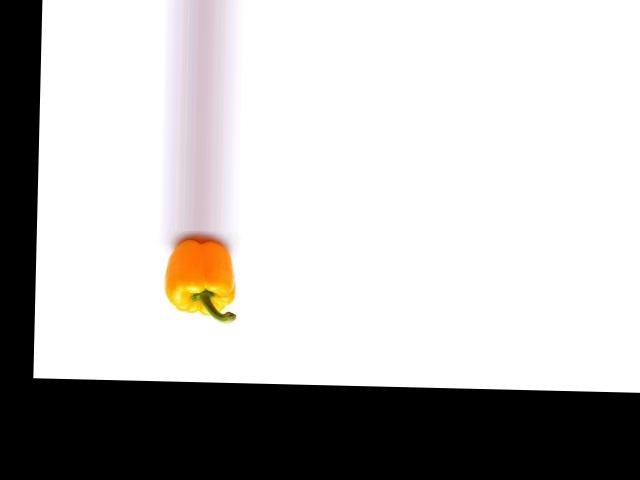bell_pepper: (157, 237, 240, 319)
